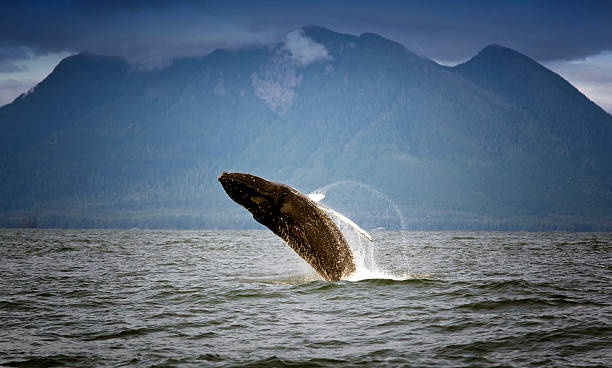humpback: (218, 170, 359, 282)
